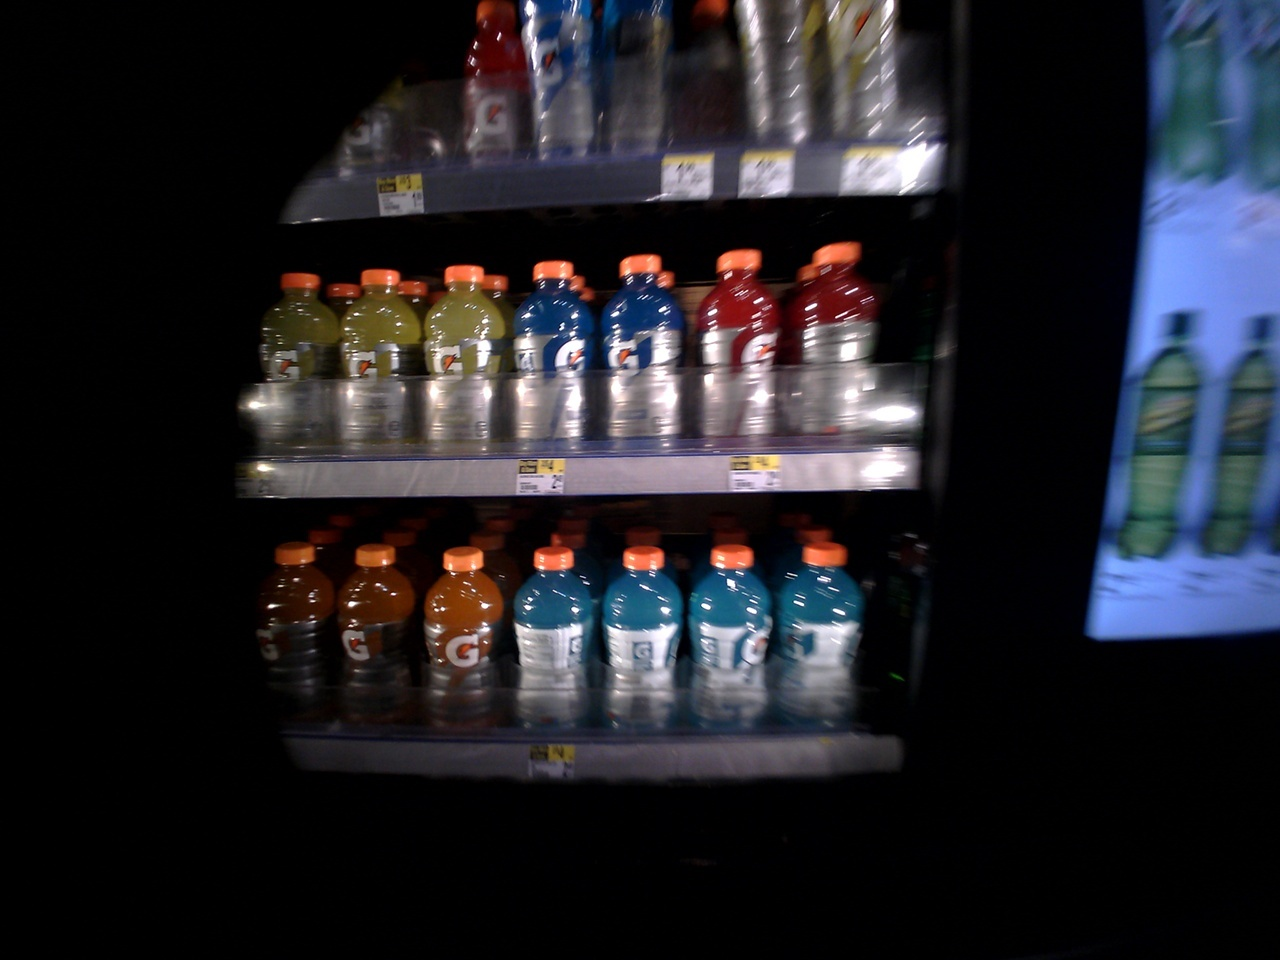shelf: (205, 219, 897, 500), (224, 498, 900, 783), (251, 0, 940, 196)
